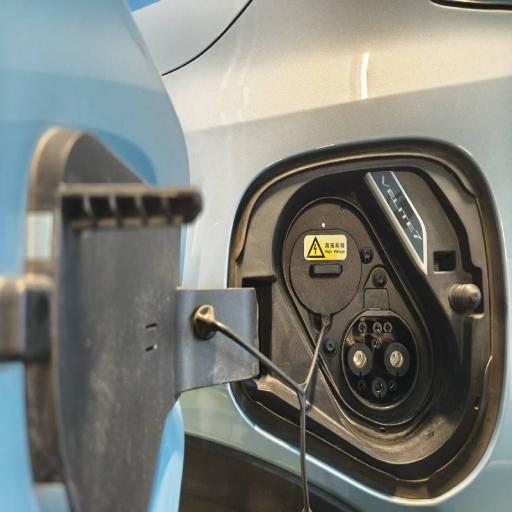DC_hole: (384, 341, 410, 377), (348, 342, 373, 378)
PE: (372, 378, 387, 398)
charging_port: (339, 308, 420, 412)
